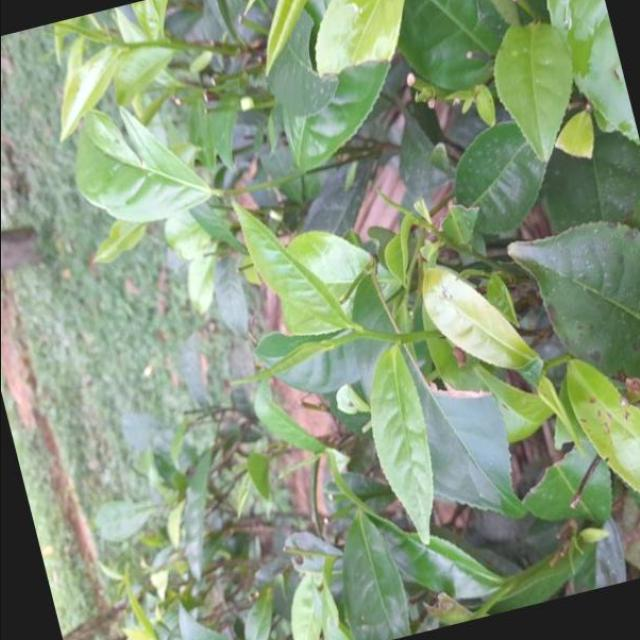Stem: (357, 329, 370, 338), (125, 43, 136, 51)
